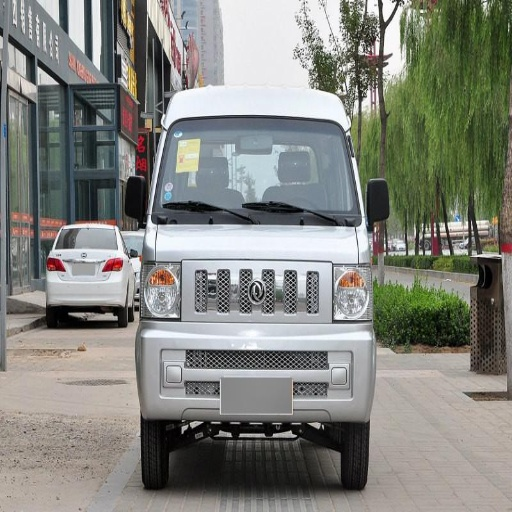front_bumper: (145, 260, 372, 415)
front_right_light: (138, 265, 180, 318)
hood: (153, 226, 358, 263)
